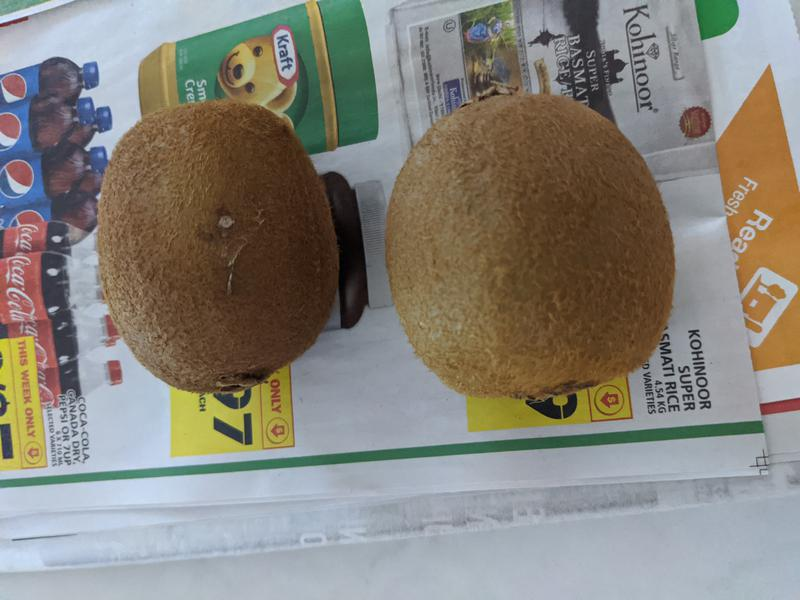kiwi: (384, 90, 676, 400), (96, 101, 341, 395)
